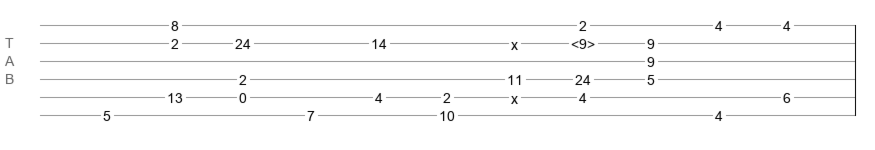0: (239, 90, 247, 100)
10: (439, 108, 455, 118)
11: (507, 72, 523, 82)
13: (167, 90, 183, 100)
14: (371, 36, 387, 46)
2: (171, 36, 179, 46), (239, 72, 247, 82), (443, 90, 451, 100), (579, 18, 587, 28)
24: (235, 36, 251, 46), (575, 72, 591, 82)
4: (375, 90, 383, 100), (579, 90, 587, 100), (715, 18, 723, 28), (715, 108, 723, 118), (783, 18, 791, 28)
5: (103, 108, 111, 118), (647, 72, 655, 82)
6: (783, 90, 791, 100)
7: (307, 108, 315, 118)
8: (171, 18, 179, 28)
9: (647, 36, 655, 46), (647, 54, 655, 64)
harmonic: (571, 36, 595, 46)
x: (511, 91, 518, 99), (511, 37, 518, 45)
